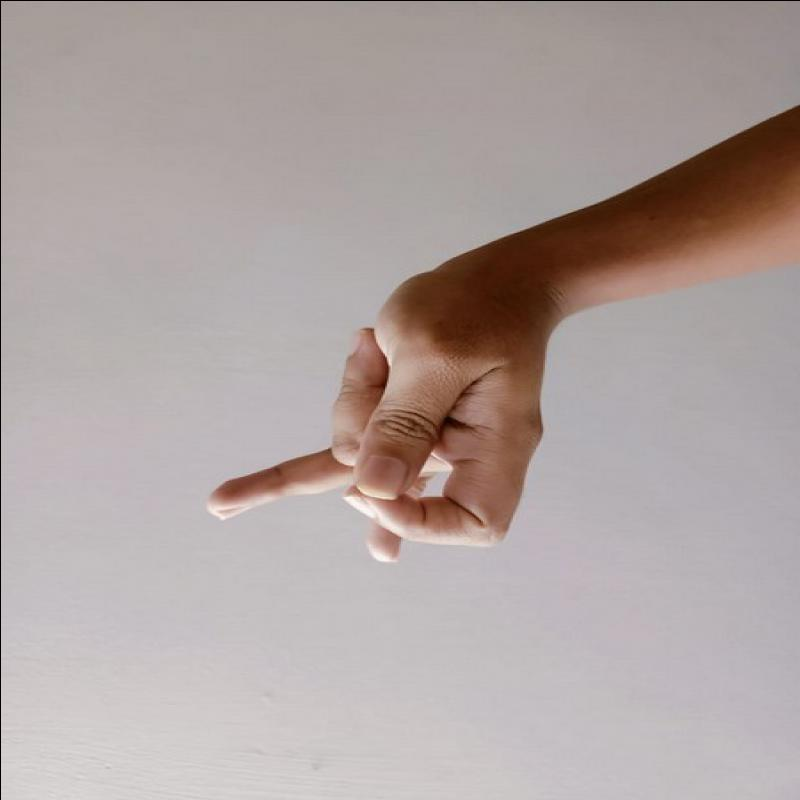Katakam: (180, 213, 562, 588)
